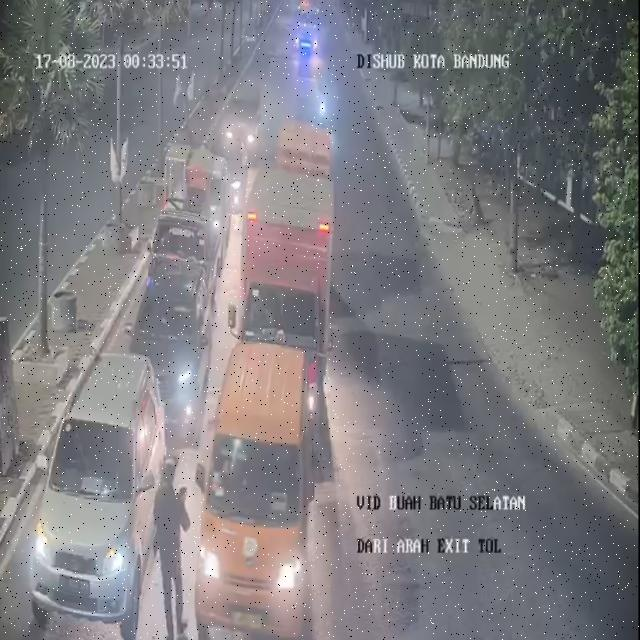cars: (32, 353, 169, 626), (201, 347, 312, 640), (121, 260, 213, 452), (219, 84, 270, 162)
truck: (229, 176, 335, 439), (146, 148, 228, 298)
